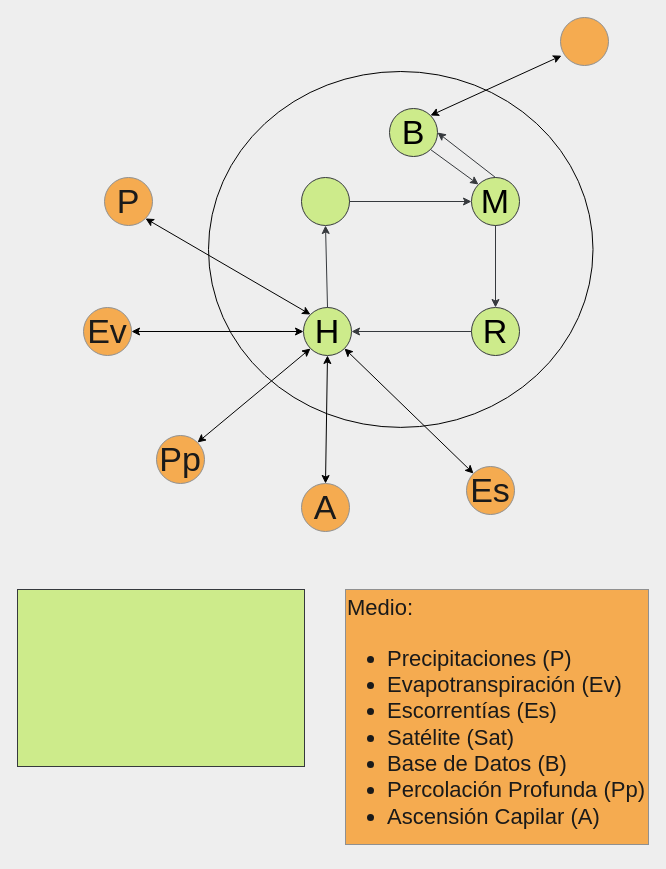
This 666x869 diagram has some shape labels left out. Each missing label, with the centre of its shape:
Sa: (x=584, y=41)
Se: (x=325, y=201)
Subsistemas: Humedad (H) Riego (R) Sensor (Se) Microcontrolador (M): (x=160, y=677)
